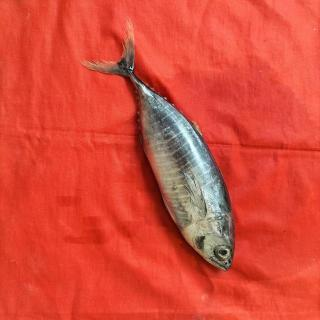Ikan: (84, 21, 248, 285)
